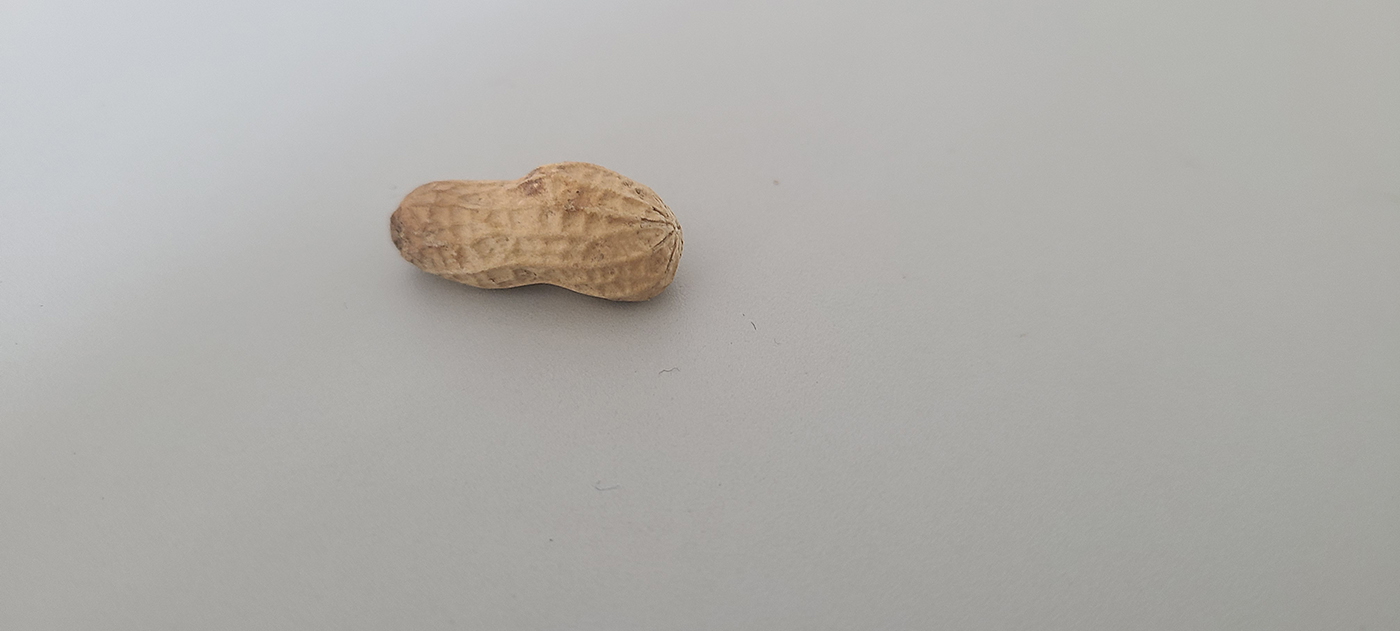h: (391, 159, 686, 305)
